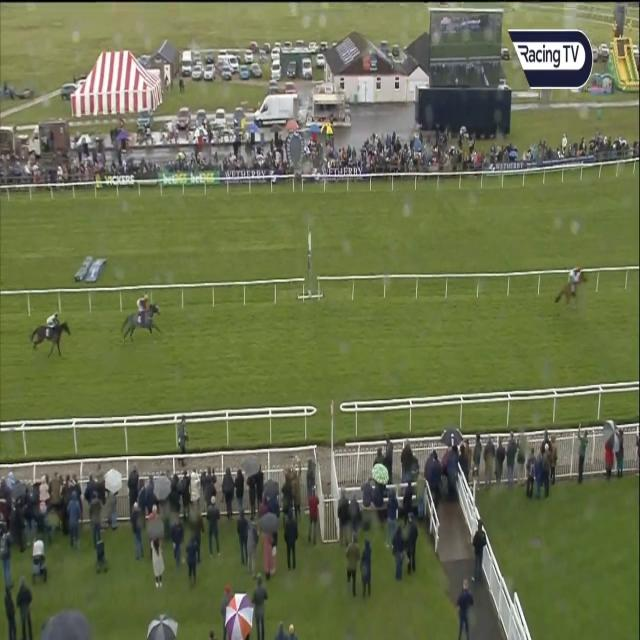horses-racing: (30, 307, 70, 357), (118, 295, 162, 340), (557, 263, 588, 308)
